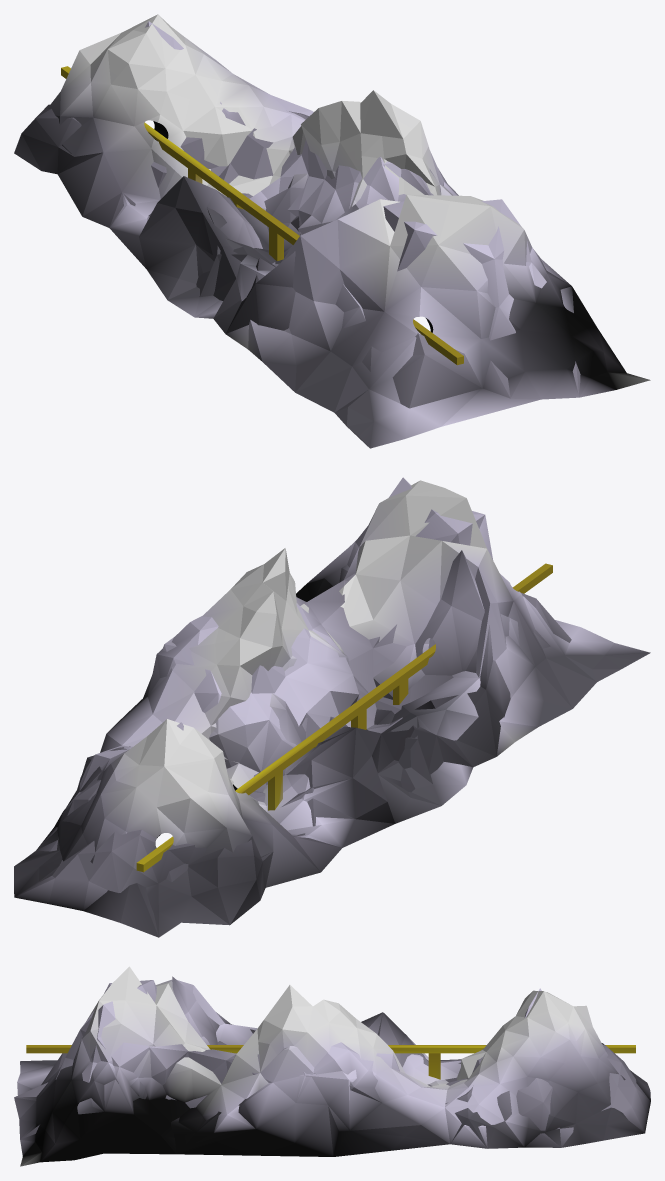
The model's file is mountainrange1.glb.
The picture shows the model from 3 angles, top to bottom: view 1: azimuth 30°, elevation 25°; view 2: azimuth 150°, elevation 25°; view 3: azimuth 270°, elevation 25°; orthographic projection. The views are drawn at different scales.
Parts seen in each view (by area): view 1: Plane, Cube; view 2: Plane, Cube; view 3: Plane, Cube.
Boxes of the visible parts, x1,y1,x2,y2 form: Plane: (14,14,650,448); Cube: (61,66,463,365); Plane: (14,477,650,937); Cube: (136,563,552,872); Plane: (14,966,650,1166); Cube: (26,1045,635,1079).
Bounding box in the file's own units: 2.04 × 1.29 × 5.11.
